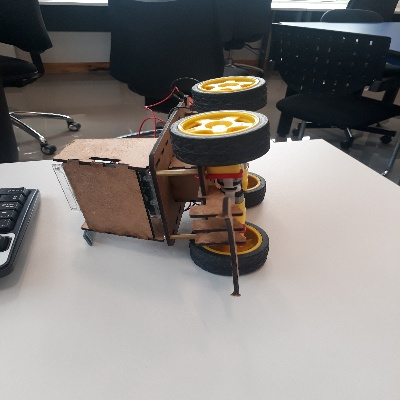Robot: (52, 75, 269, 296)
